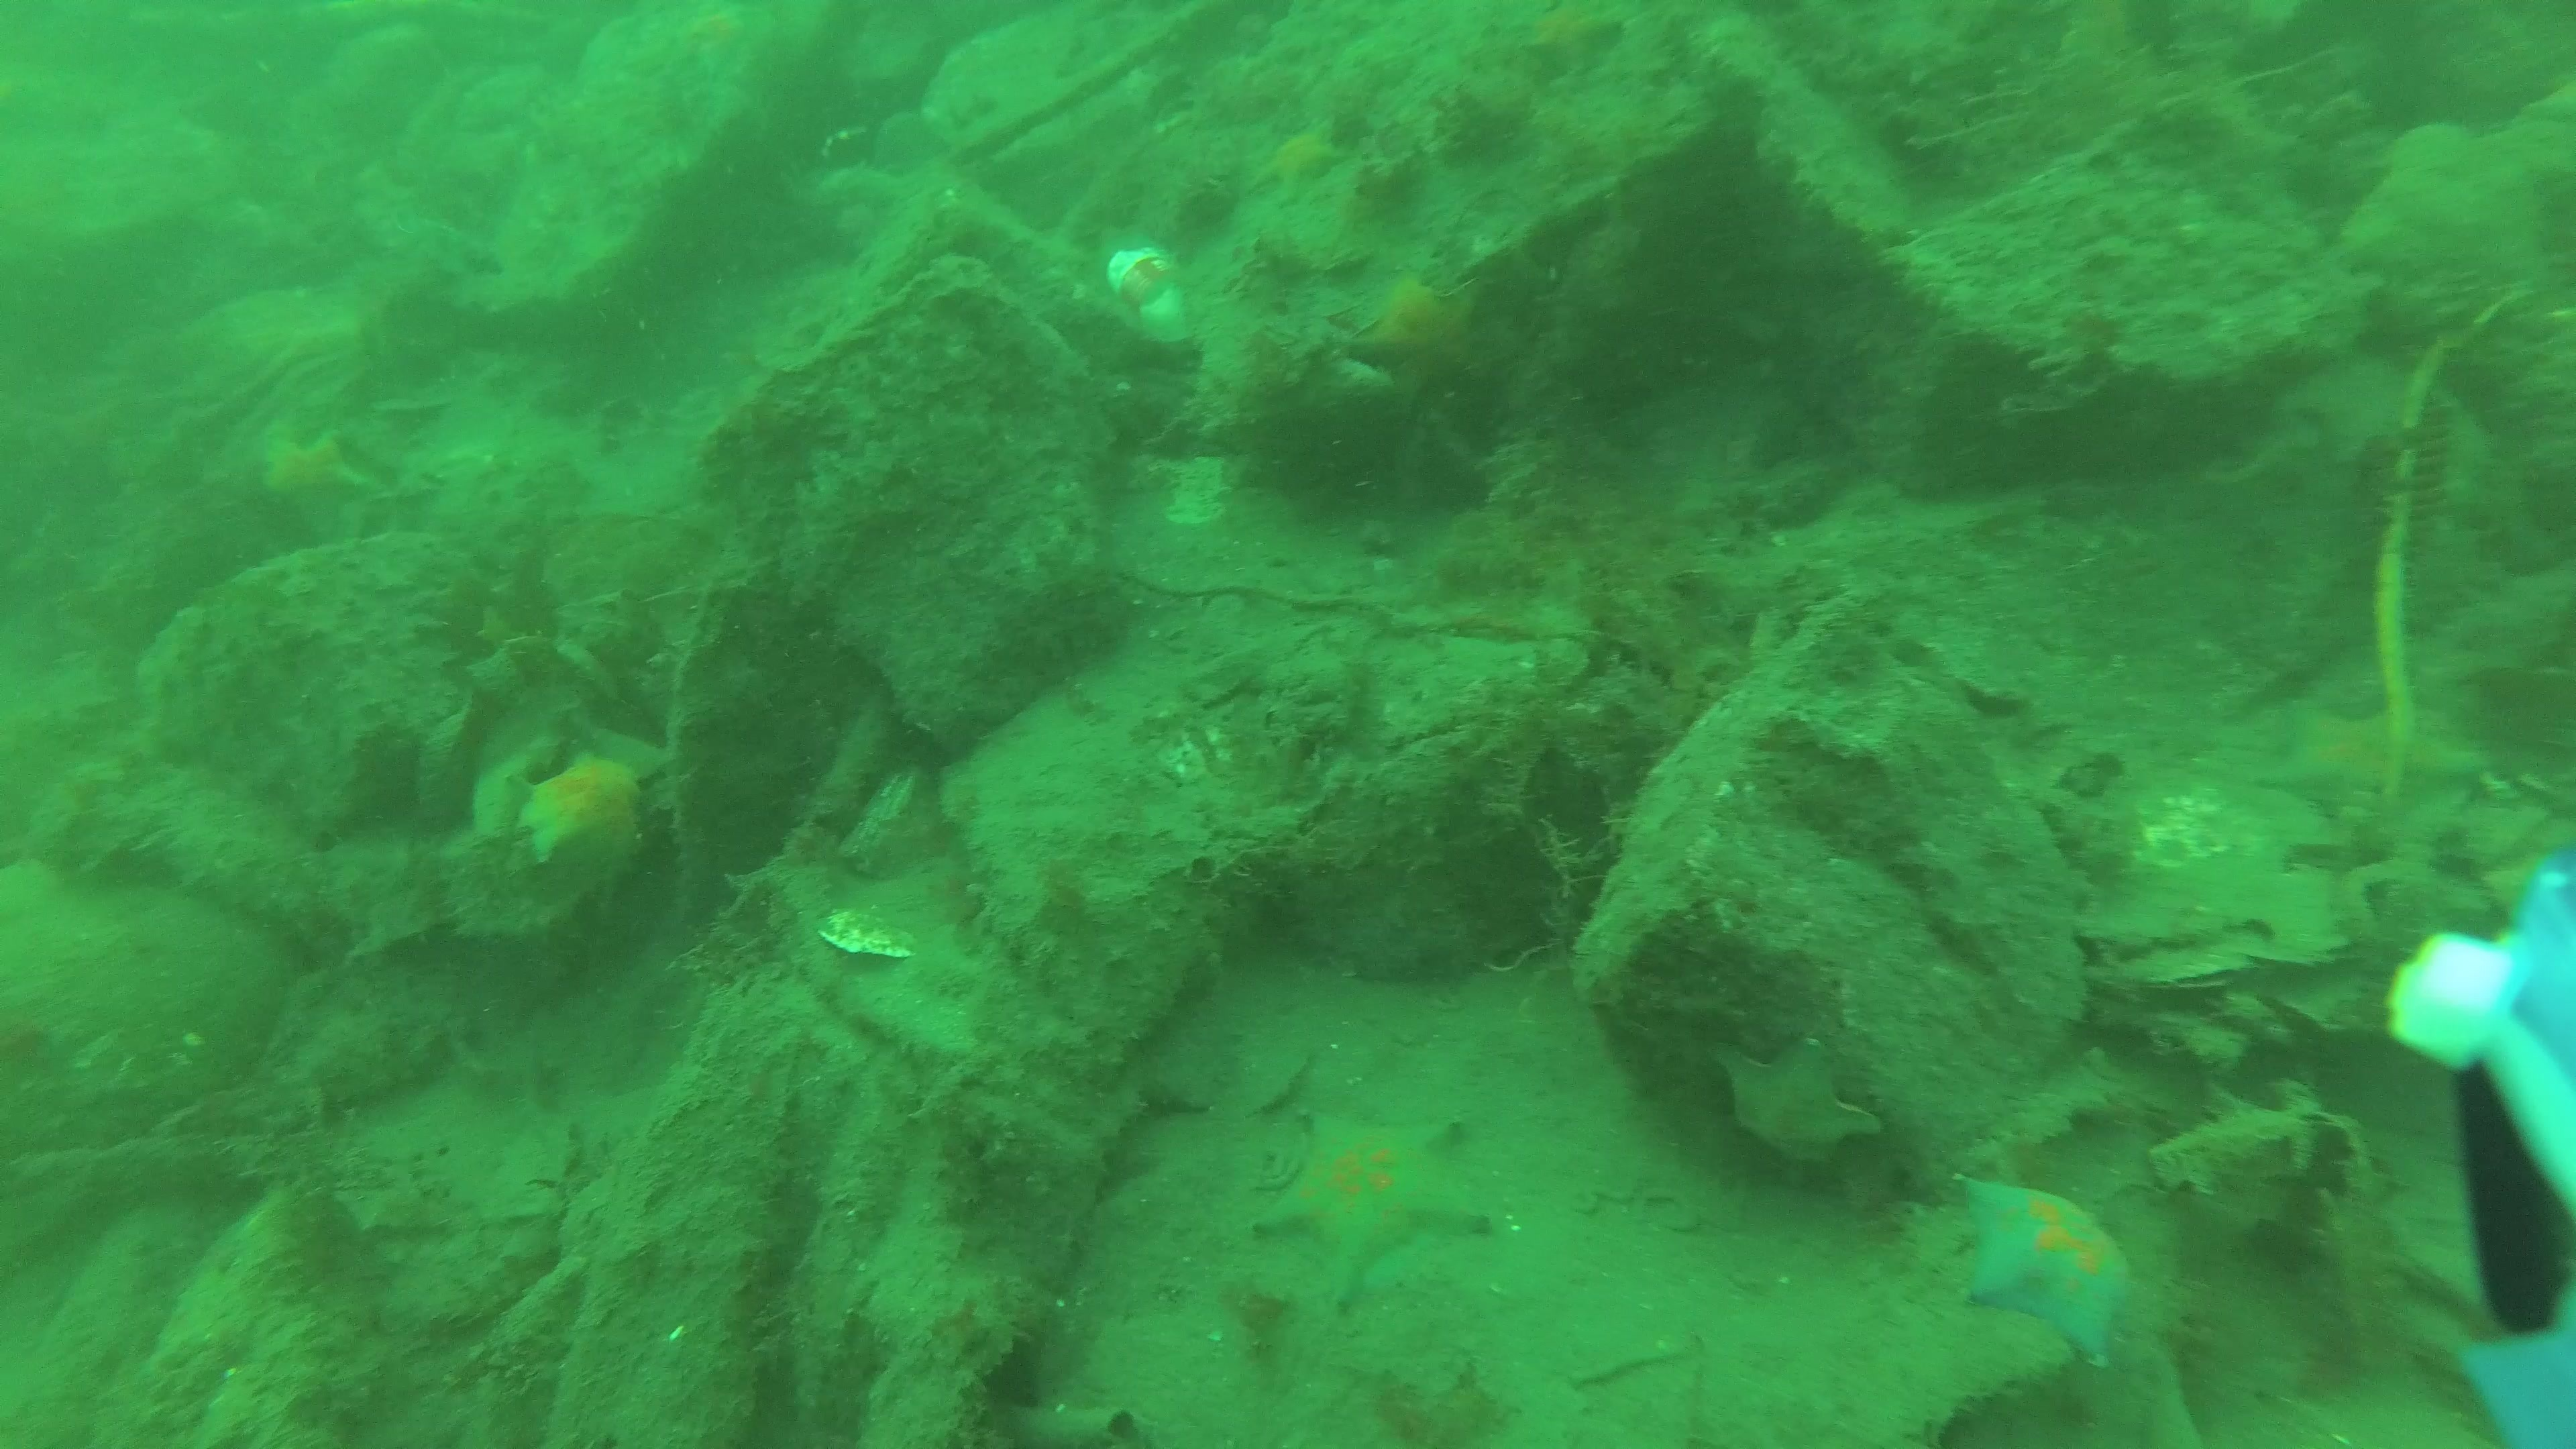scallop: (812, 901, 916, 961)
starfish: (1249, 1108, 1493, 1316), (1953, 1168, 2135, 1366), (1711, 1030, 1879, 1173), (2265, 699, 2484, 801), (517, 755, 648, 863), (1369, 274, 1461, 361), (258, 432, 363, 502), (1258, 122, 1343, 207)
